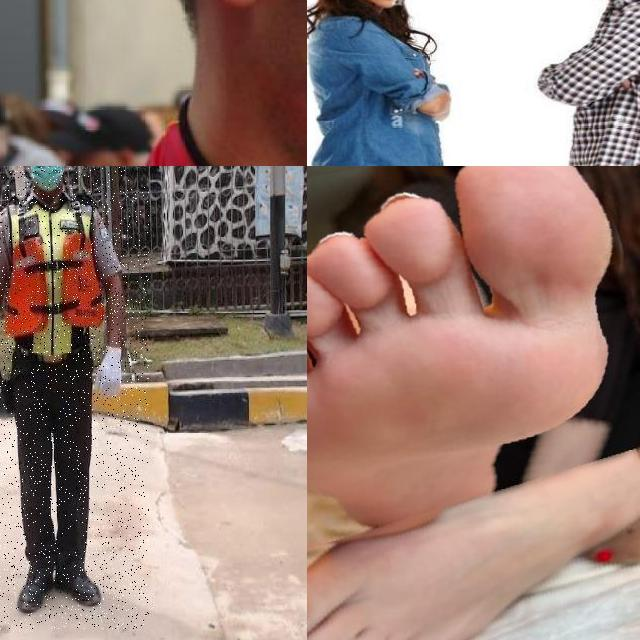Barefoots: (307, 166, 622, 524), (307, 449, 640, 640)
boots: (53, 560, 104, 612), (17, 561, 56, 618)
face_nomask: (360, 0, 407, 7)
person: (0, 166, 149, 629), (307, 0, 457, 166), (535, 0, 640, 166)
vest: (5, 197, 104, 358)
